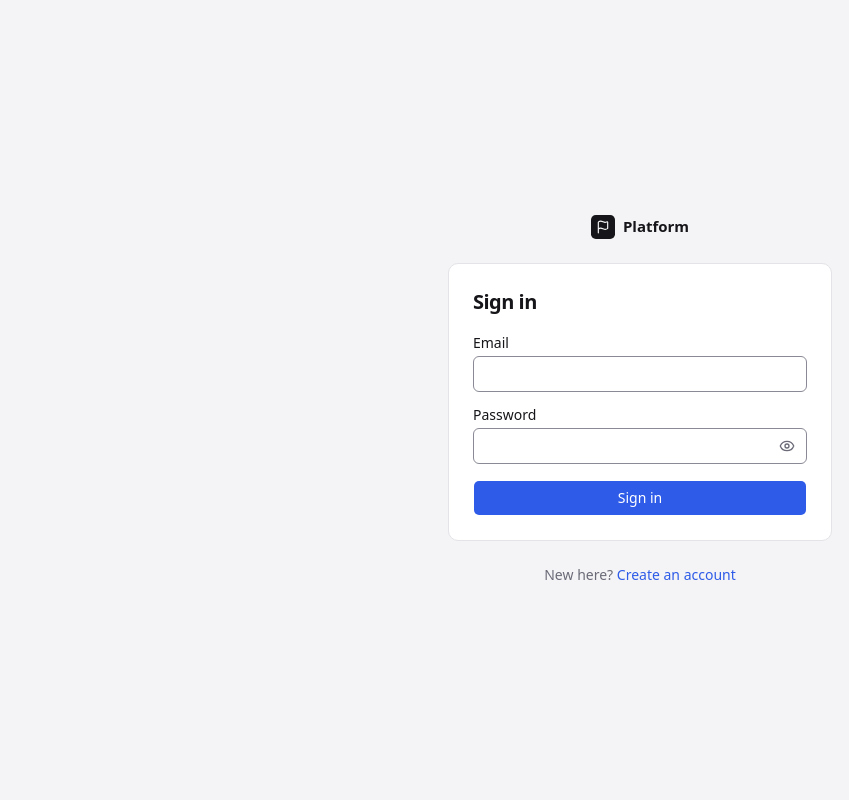
it: sign in › signs in and carries on to where the visitor was headed
Type "user@example.com" into the field labelled "Email" at {"x": 640, "y": 374}, box [473,356,807,392]
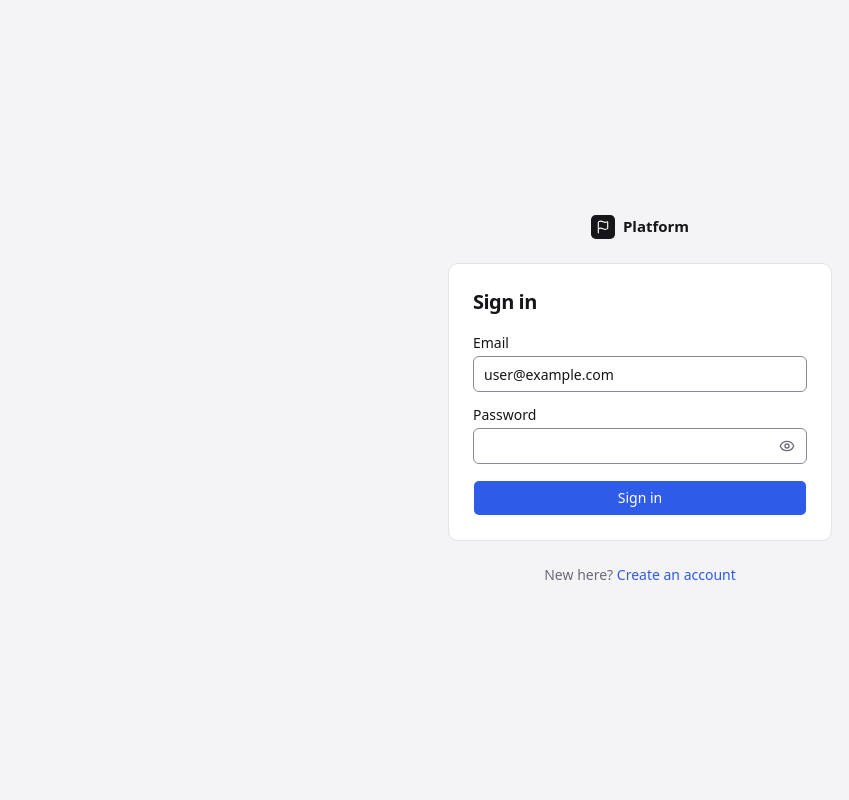
Type "correct horse" into the password field labelled "Password" at {"x": 640, "y": 446}, box [473,428,807,464]
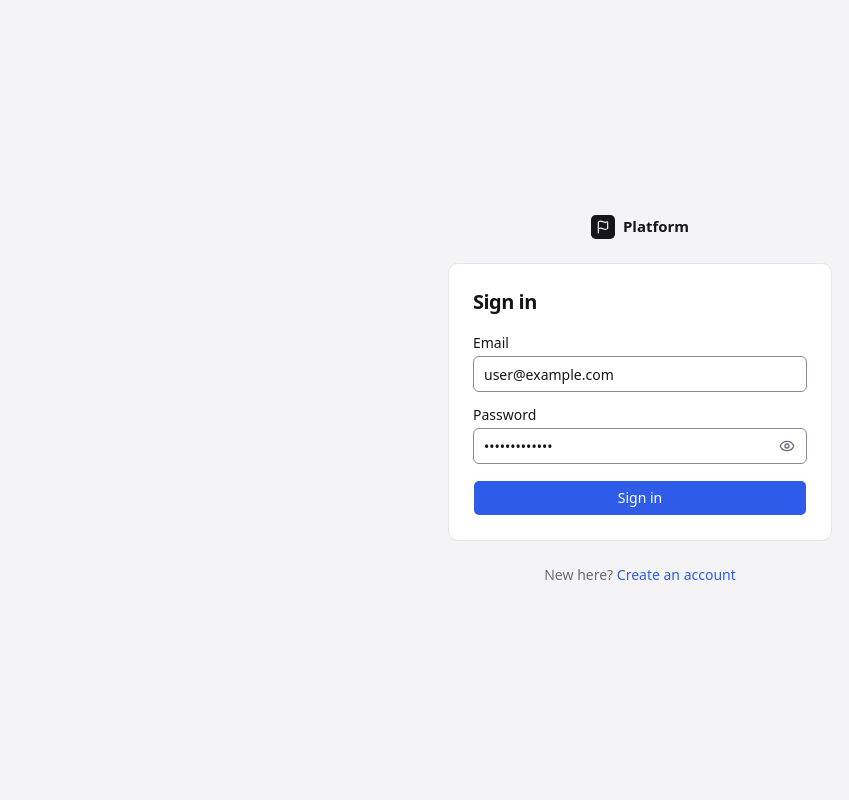
Click the button "Sign in" at {"x": 640, "y": 498}, box [473,480,807,516]
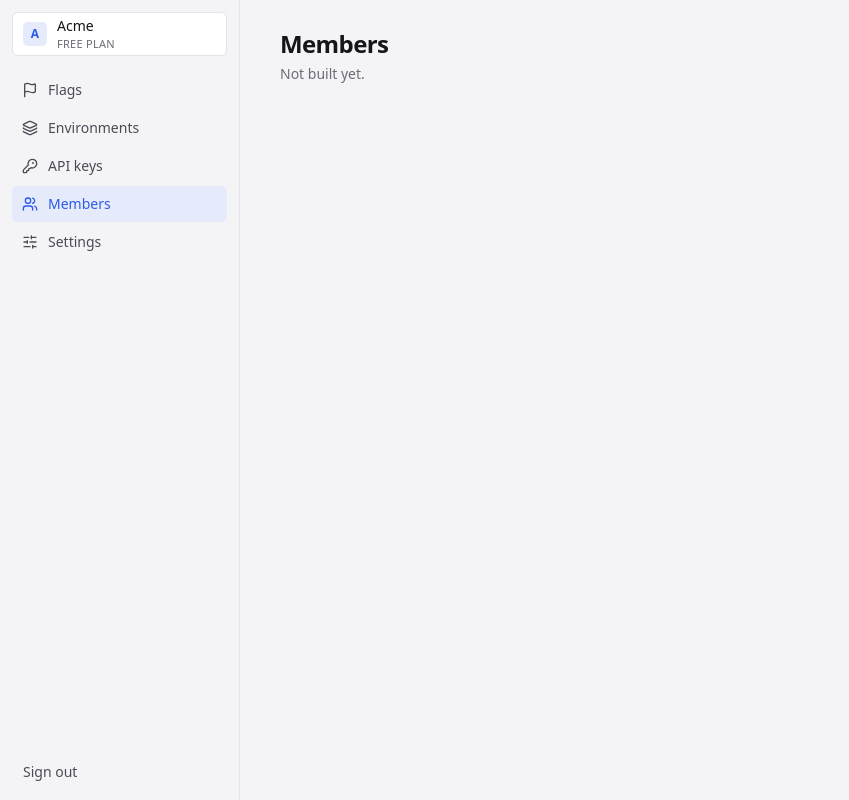
Check: the heading "Members" is shown, box [280,27,388,60]
